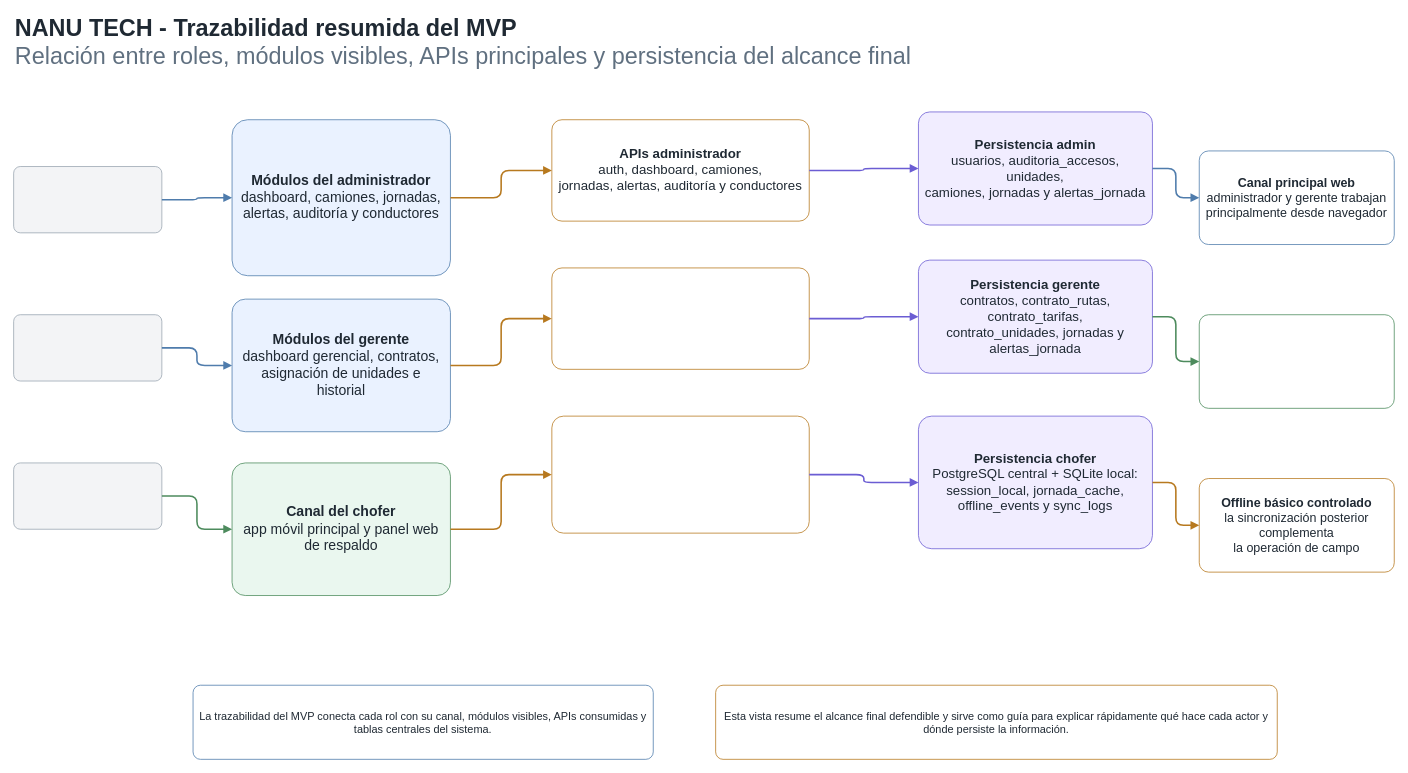
Some shapes in this 1408 by 773 pixel diagram are drawn without their labels. Each missing label, with the centre of its shape:
"Administrador" goes at [87,199].
"APIs chofer auth, jornadas, alertas y conductores (licencia/perfil básico)" goes at [680,474].
"APIs gerente auth, dashboard gerencial, contratos, jornadas y unidades" goes at [680,318].
"Canal principal móvil el chofer opera la jornada y emergencias desde Flutter" goes at [1296,361].
"Chofer" goes at [87,495].
"Gerente" goes at [87,347].
